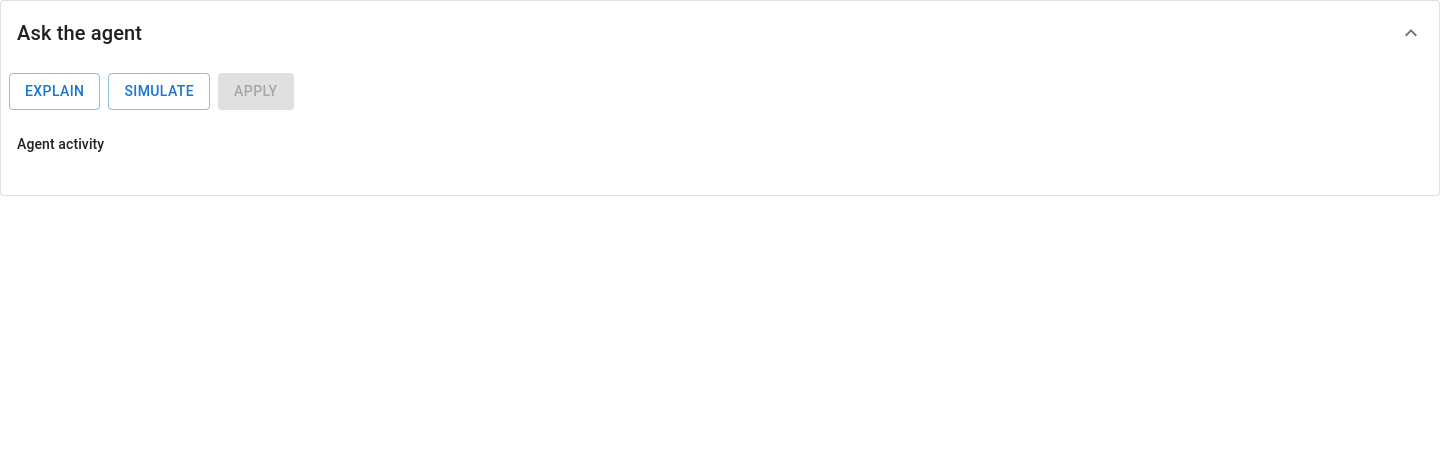
it: AgentPanel (screen.custom / agent-panel) › keeps Apply disabled when the simulation would not succeed or the panel is disabled
This screenshot has width=1440, height=449.
Step 1. Click the button with test id "agent-simulate" → (159, 91), box [108,73,210,110]
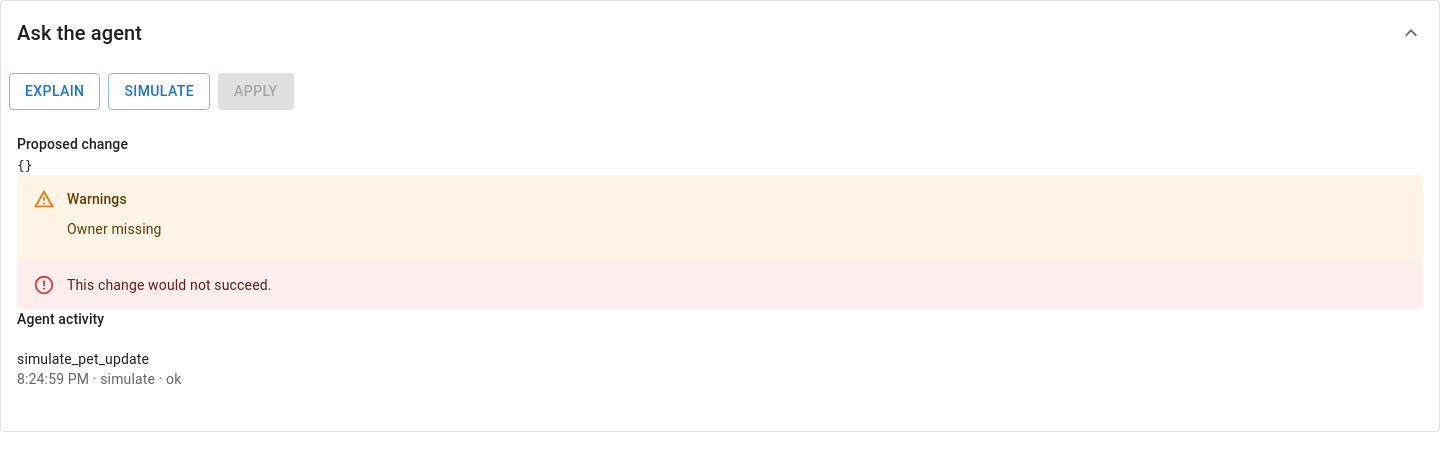
Expected: the button with test id "agent-apply" is disabled, [218,73,294,110]
Expected: the message "This change would not succeed." is shown, [17,261,1423,309]
Expected: the message with test id "agent-warnings" shows "Owner missing", [67,221,162,237]
